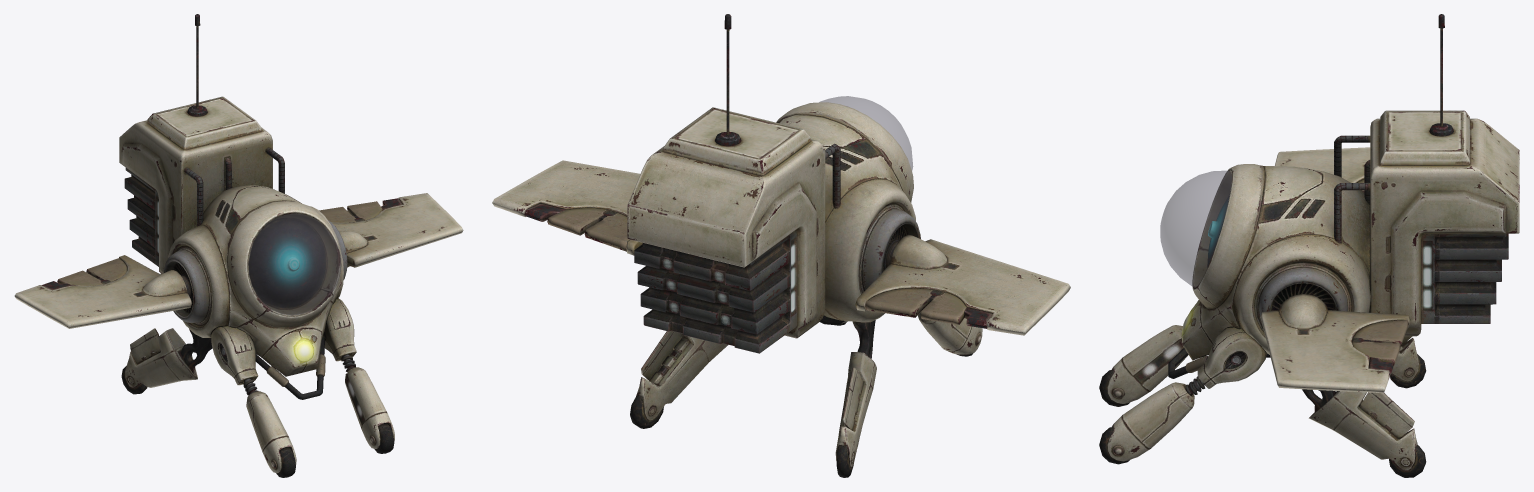
The model's file is vehicle_rcFlyer_clean.glb.
3 views of the same model, side by side, from view 1: azimuth 30°, elevation 25°; view 2: azimuth 150°, elevation 25°; view 3: azimuth 270°, elevation 25° (orthographic). The views are drawn at different scales.
Visible parts, largest first — view 1: vehicle_rcFlyer_clean, vehicle_rcFlyer_leg_frontRight, vehicle_rcFlyer_leg_frontLeft, vehicle_rcFlyer_leg_rearRight; view 2: vehicle_rcFlyer_clean, vehicle_rcFlyer_leg_rearLeft, vehicle_rcFlyer_leg_rearRight, vehicle_rcFlyer_leg_frontRight; view 3: vehicle_rcFlyer_clean, vehicle_rcFlyer_leg_frontLeft, vehicle_rcFlyer_leg_rearLeft, vehicle_rcFlyer_leg_frontRight, vehicle_rcFlyer_leg_rearRight.
Boxes of the visible parts, box(x1,y1,x2,y2) form: vehicle_rcFlyer_clean: box(14, 14, 463, 399); vehicle_rcFlyer_leg_frontRight: box(211, 325, 296, 477); vehicle_rcFlyer_leg_frontLeft: box(323, 298, 394, 453); vehicle_rcFlyer_leg_rearRight: box(121, 328, 212, 394); vehicle_rcFlyer_clean: box(492, 14, 1070, 353); vehicle_rcFlyer_leg_rearLeft: box(630, 331, 728, 428); vehicle_rcFlyer_leg_rearRight: box(835, 320, 876, 477); vehicle_rcFlyer_leg_frontRight: box(918, 312, 982, 356); vehicle_rcFlyer_clean: box(1160, 14, 1519, 393); vehicle_rcFlyer_leg_frontLeft: box(1099, 326, 1266, 464); vehicle_rcFlyer_leg_rearLeft: box(1302, 389, 1426, 477); vehicle_rcFlyer_leg_frontRight: box(1099, 325, 1188, 406); vehicle_rcFlyer_leg_rearRight: box(1390, 336, 1426, 388).
Size of the model in its own units: 2.96 by 2.4 by 2.19.
2 materials, 1 textured.
